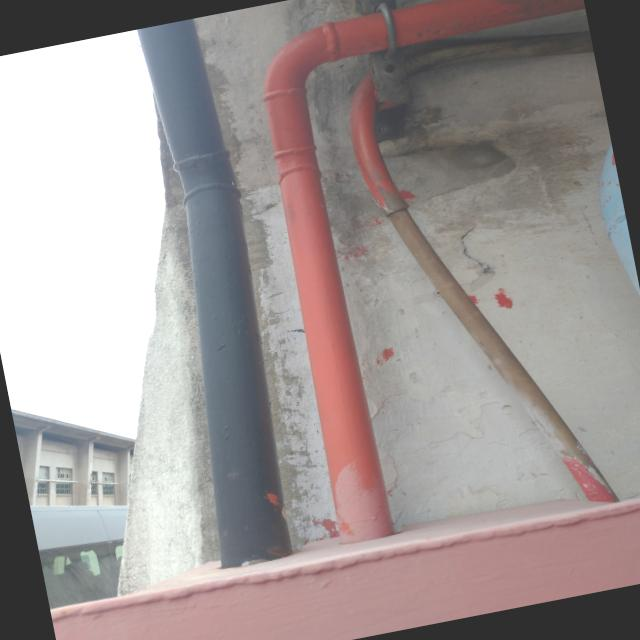gas: (255, 86, 398, 550), (163, 199, 307, 566), (296, 0, 587, 71), (132, 16, 236, 192)
